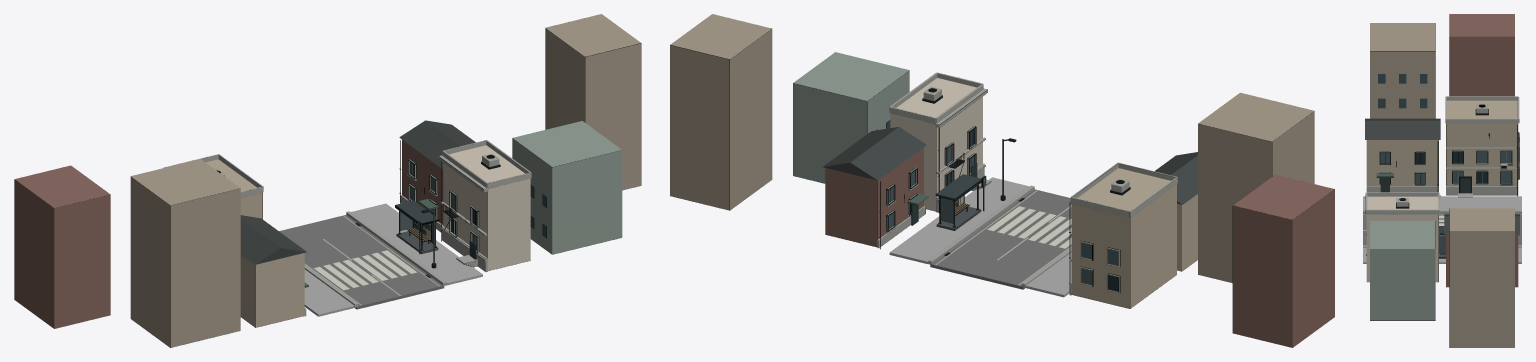
File: city_hd_02.glb
3 views of the same model, side by side, from view 1: azimuth 30°, elevation 25°; view 2: azimuth 150°, elevation 25°; view 3: azimuth 270°, elevation 25° (orthographic). The views are drawn at different scales.
Parts seen in each view (by area): view 1: CITY_darkmetal.001, CITY_PBR_asphalt, CITY_PBR_pavement, CITY_zebra_paint, CITY_curb; view 2: CITY_darkmetal.001, CITY_PBR_asphalt, CITY_PBR_pavement, CITY_zebra_paint, CITY_curb; view 3: CITY_darkmetal.001, CITY_PBR_pavement, CITY_PBR_asphalt, CITY_ac_paint.
Part boxes in pixels (box(x1,y1,x2,y2)): CITY_darkmetal.001: box(14, 14, 641, 347); CITY_PBR_asphalt: box(279, 215, 444, 309); CITY_PBR_pavement: box(304, 203, 482, 316); CITY_zebra_paint: box(314, 250, 417, 290); CITY_curb: box(304, 211, 446, 307); CITY_darkmetal.001: box(670, 14, 1334, 347); CITY_PBR_asphalt: box(930, 189, 1071, 289); CITY_PBR_pavement: box(889, 177, 1071, 297); CITY_zebra_paint: box(987, 206, 1071, 248); CITY_curb: box(928, 185, 1071, 287); CITY_darkmetal.001: box(1365, 14, 1519, 347); CITY_PBR_pavement: box(1363, 196, 1521, 263); CITY_PBR_asphalt: box(1363, 213, 1521, 245); CITY_ac_paint: box(1396, 104, 1507, 206).
Bounding box in the file's own units: 56 × 13.26 × 16.
Materials: 7 (1 with a texture image).
